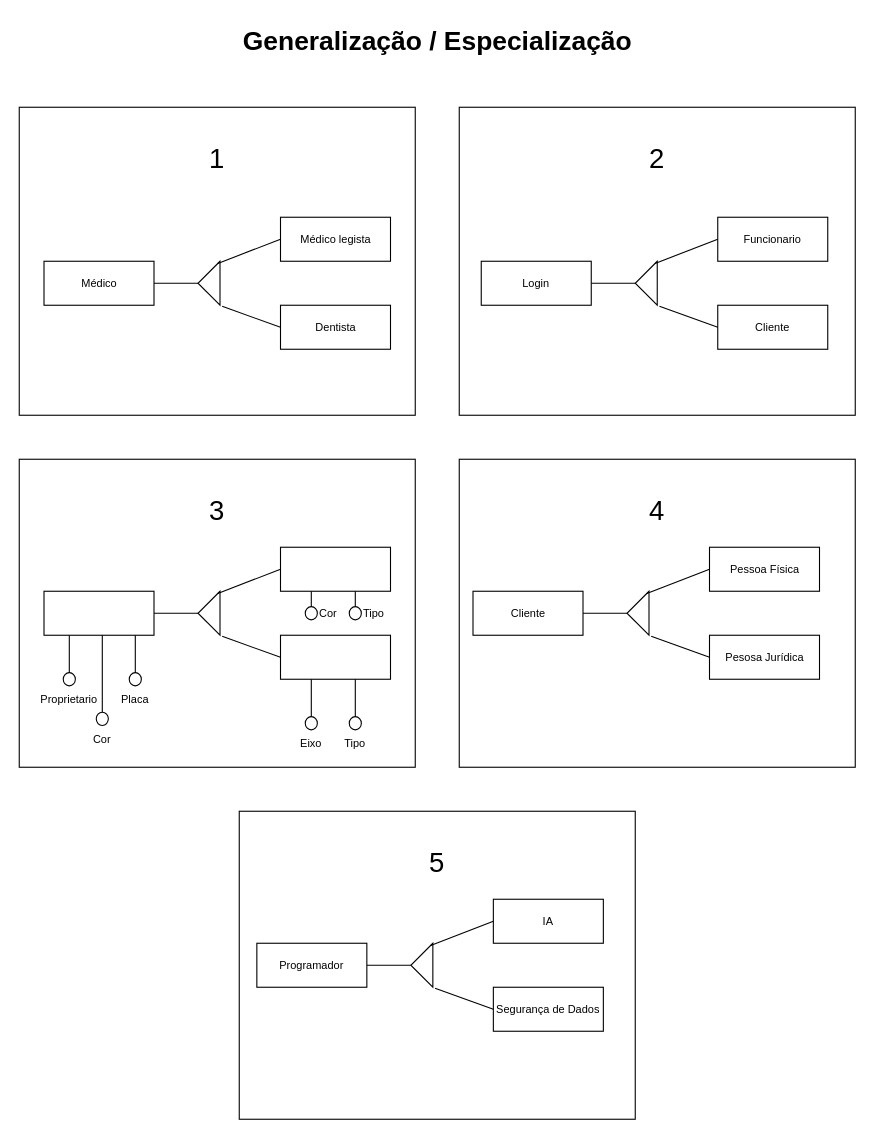
Image size: 875x1139. Some labels were removed from this diagram. The shapes that lost their labels are listed below. From the top down, each one's centre as x and y in pixels, then its label:
At (335,568): "Carro".
At (98,612): "Veículo".
At (335,656): "Camião".
